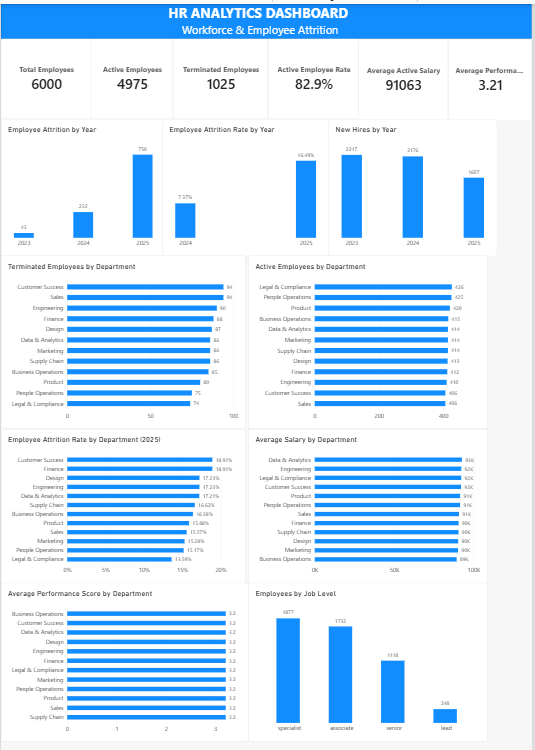

The dashboard page shown, as its layout file describes it:
{"tool":"powerbi","page":{"name":"HR ANALYTICS DASHBOARD ","canvas":[1280,1800],"ordinal":0},"visuals":[{"type":"cardVisual","fields":{"Data":["employees.Total Employees"]},"box":[-0.7,82.7,218.3,196.7],"z":0},{"type":"cardVisual","fields":{"Data":["employees.Active Employees"]},"box":[217.7,82.7,198.3,196.7],"z":1000},{"type":"cardVisual","fields":{"Data":["employees.Terminated Employees"]},"box":[416,82.7,228.3,196.7],"z":2000},{"type":"cardVisual","fields":{"Data":["employees.Active Employee Rate"]},"box":[644.3,82.7,218.3,196.7],"z":3000},{"type":"cardVisual","fields":{"Data":["employees.Average Active Salary"]},"box":[863.3,83.3,216.7,196.7],"z":4000},{"type":"cardVisual","fields":{"Data":["performance_reviews.Average Performance Score"]},"box":[1080,83.3,200,196.7],"z":5000},{"type":"columnChart","title":"Employee Attrition by Year","fields":{"Category":["Calendar.Year"],"Y":["employees.Terminated Employees"]},"box":[-0.4,276.6,397.1,331.4],"z":6000},{"type":"columnChart","title":"Employee Attrition Rate by Year","fields":{"Category":["Calendar.Year"],"Y":["employees.Employee Attrition Rate"]},"box":[388.1,276.6,402.9,331.4],"z":7000},{"type":"clusteredBarChart","title":"Terminated Employees by Department","fields":{"Category":["departments.department_name"],"Y":["employees.Terminated Employees"]},"box":[1.3,605.4,590,418.6],"z":8000},{"type":"clusteredBarChart","title":"Employee Attrition Rate by Department (2025)","fields":{"Category":["departments.department_name"],"Y":["employees.Employee Attrition Rate"]},"box":[1.3,1024,590,372.9],"z":9000},{"type":"columnChart","title":"New Hires by Year","fields":{"Category":["Calendar.Year"],"Y":["employees.New Hires"]},"box":[791,276.6,407.1,331.4],"z":10000},{"type":"clusteredBarChart","title":"Active Employees by Department","fields":{"Category":["departments.department_name"],"Y":["employees.Active Employees"]},"box":[597,605.4,577.1,418.6],"z":11000},{"type":"clusteredBarChart","title":"Average Salary by Department","fields":{"Category":["departments.department_name"],"Y":["employees.Average Active Salary"]},"box":[597,1024,577.1,372.9],"z":12000},{"type":"clusteredBarChart","title":"Average Performance Score by Department","fields":{"Category":["departments.department_name"],"Y":["performance_reviews.Average Performance Score"]},"box":[-0.7,1397.7,598.3,383.3],"z":13000},{"type":"clusteredColumnChart","title":"Employees by Job Level","fields":{"Category":["job_roles.job_level"],"Y":["employees.Active Employees"]},"box":[597.3,1397.7,577,383],"z":14000},{"type":"shape","box":[0,0,1280,83.3],"z":15000},{"type":"textbox","box":[1.7,0,1245,83.3],"z":16000}]}

Visuals, with their boxes in screenshot pixels (x1, y1, x2, y2), scaled from the page's 1280x1800 canvas onto the 535x750 screenshot:
cardVisual - employees.Total Employees: bbox=(0, 34, 91, 116)
cardVisual - employees.Active Employees: bbox=(91, 34, 174, 116)
cardVisual - employees.Terminated Employees: bbox=(174, 34, 269, 116)
cardVisual - employees.Active Employee Rate: bbox=(269, 34, 361, 116)
cardVisual - employees.Average Active Salary: bbox=(361, 35, 451, 117)
cardVisual - performance_reviews.Average Performance Score: bbox=(451, 35, 534, 117)
"Employee Attrition by Year" columnChart: bbox=(0, 115, 166, 253)
"Employee Attrition Rate by Year" columnChart: bbox=(162, 115, 331, 253)
"Terminated Employees by Department" clusteredBarChart: bbox=(1, 252, 247, 427)
"Employee Attrition Rate by Department (2025)" clusteredBarChart: bbox=(1, 427, 247, 582)
"New Hires by Year" columnChart: bbox=(331, 115, 501, 253)
"Active Employees by Department" clusteredBarChart: bbox=(250, 252, 491, 427)
"Average Salary by Department" clusteredBarChart: bbox=(250, 427, 491, 582)
"Average Performance Score by Department" clusteredBarChart: bbox=(0, 582, 250, 742)
"Employees by Job Level" clusteredColumnChart: bbox=(250, 582, 491, 742)
shape: bbox=(0, 0, 534, 35)
textbox: bbox=(1, 0, 521, 35)
